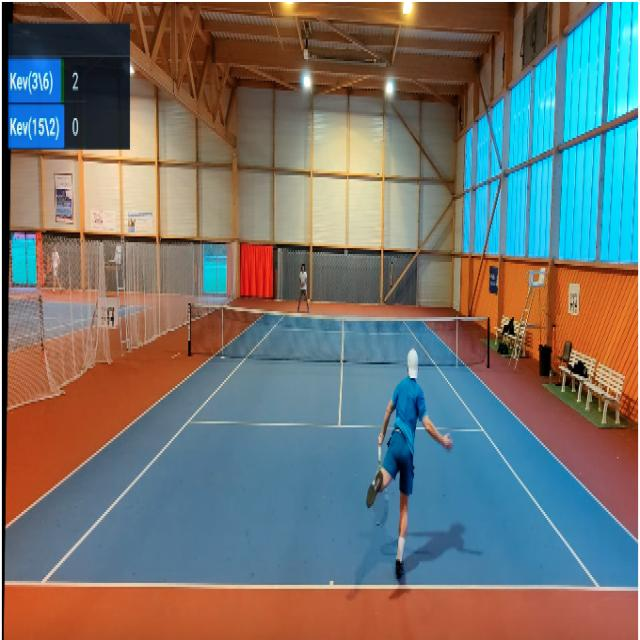ball: (307, 298, 310, 304)
